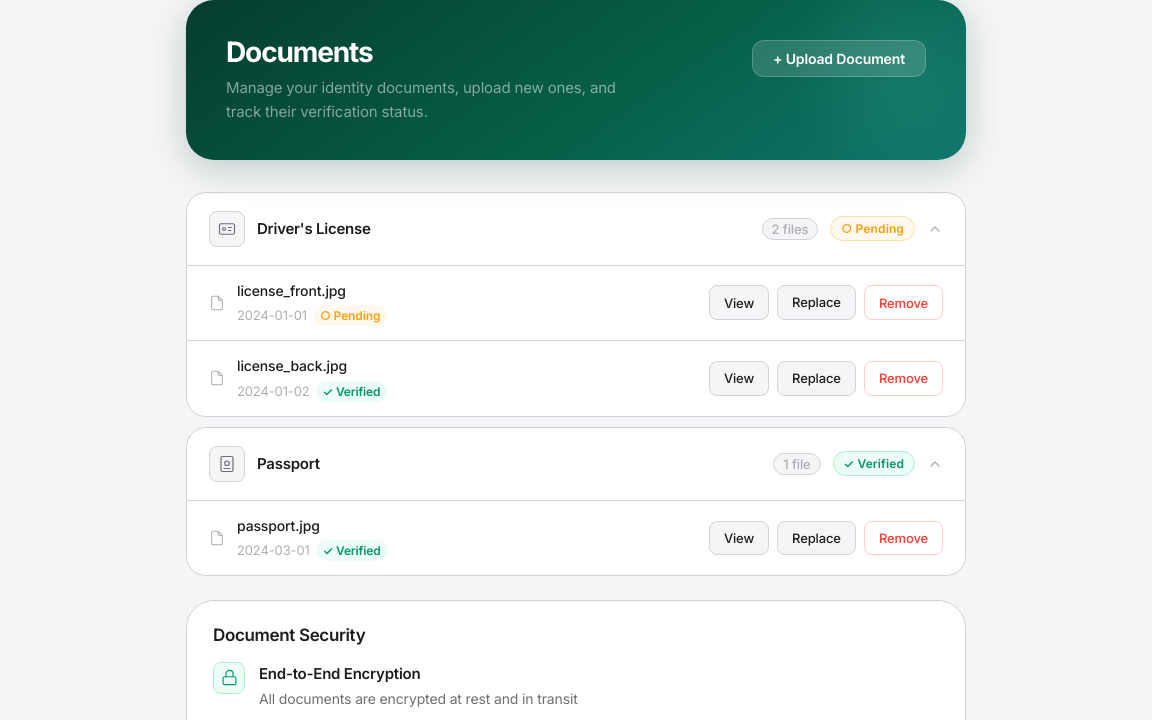
Scenario: Documents Page › submit button is disabled until a doc type and file are selected
This screenshot has width=1152, height=720.
Click the button "+ Upload Document".
click(839, 58)  # box [752,40,926,77]
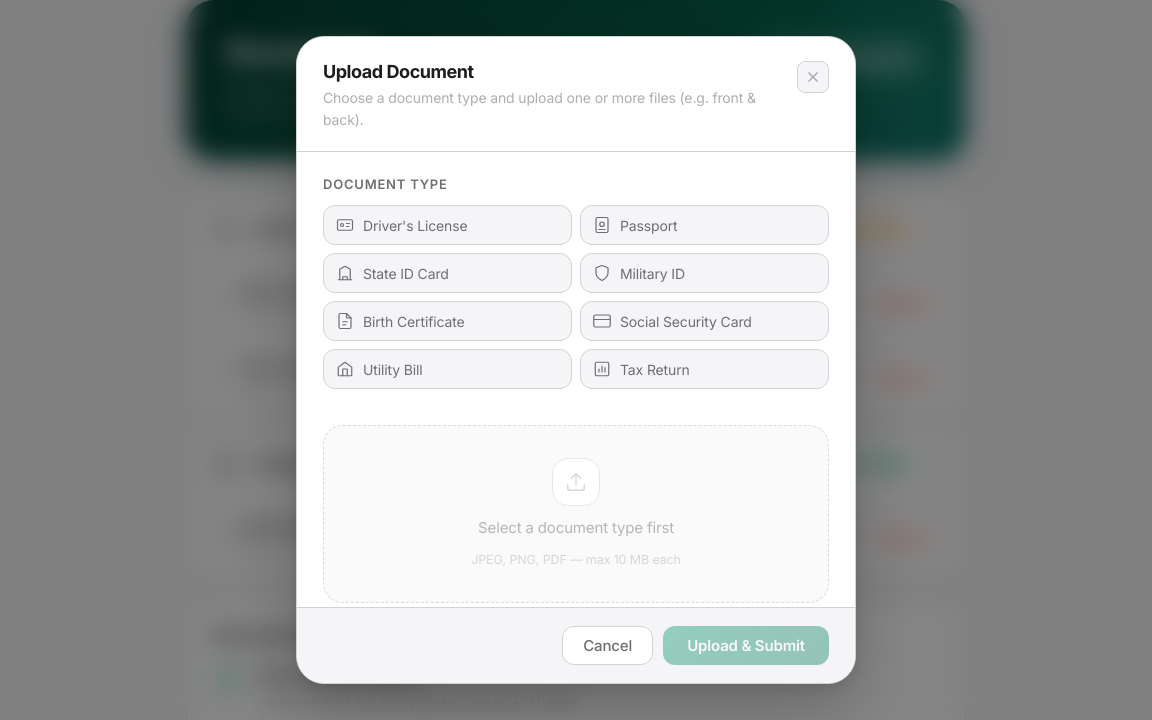
Result: the heading "Upload Document" is shown at [323,61,474,82]
Result: the button "Upload & Submit" is disabled at [663,626,829,665]
